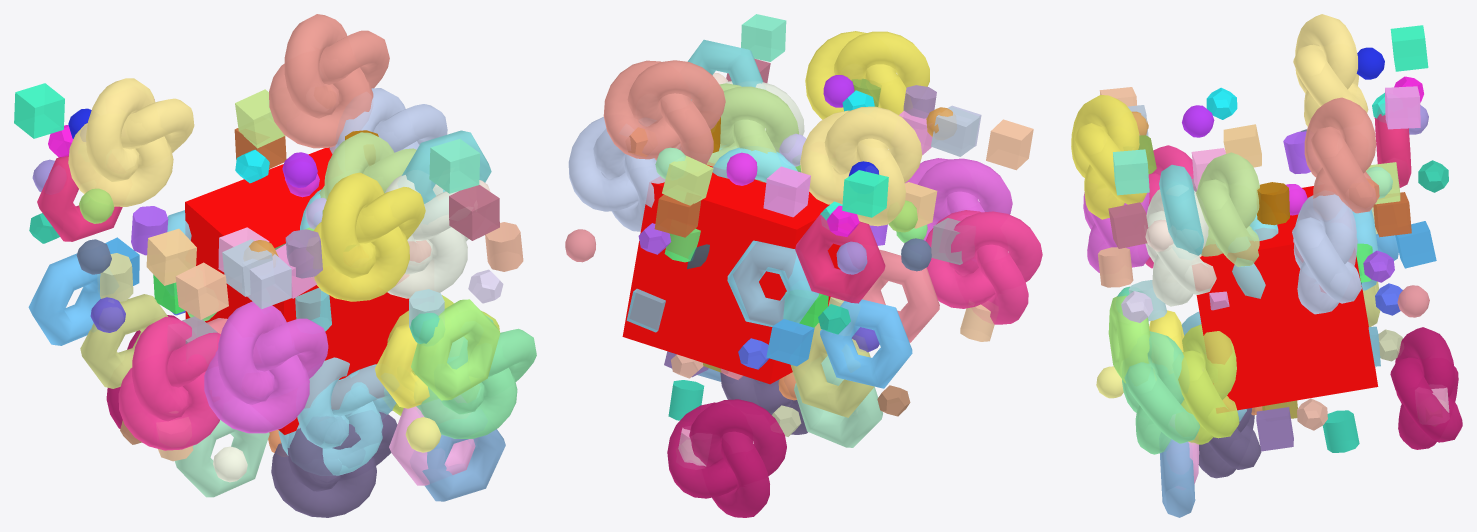
File: hello-world-2020-11-27.gltf
The picture shows the model from 3 angles, left to right: view 1: azimuth 30°, elevation 25°; view 2: azimuth 150°, elevation 25°; view 3: azimuth 270°, elevation 25°; orthographic projection. The views are drawn at different scales.
Parts seen in each view (by area): view 1: mesh 1, mesh 36, mesh 43, mesh 98, mesh 81, mesh 5, mesh 49, mesh 13, mesh 86, mesh 17, mesh 94, mesh 23 (+38 smaller); view 2: mesh 1, mesh 39, mesh 43, mesh 5, mesh 98, mesh 81, mesh 45, mesh 23, mesh 24, mesh 78, mesh 36, mesh 28 (+36 smaller); view 3: mesh 1, mesh 45, mesh 39, mesh 43, mesh 86, mesh 81, mesh 78, mesh 2, mesh 98, mesh 94, mesh 63, mesh 13 (+39 smaller).
Boxes of the visible parts, box(x1,y1,x2,y2) form: mesh 1: box(185, 147, 429, 434); mesh 36: box(204, 301, 328, 433); mesh 43: box(269, 14, 389, 148); mesh 98: box(68, 78, 194, 206); mesh 81: box(313, 172, 425, 301); mesh 5: box(118, 316, 220, 450); mesh 49: box(278, 357, 396, 475); mesh 13: box(271, 411, 397, 517); mesh 86: box(416, 316, 536, 438); mesh 17: box(411, 299, 500, 400); mesh 94: box(385, 174, 468, 298); mesh 23: box(28, 253, 100, 345); mesh 1: box(622, 162, 840, 384); mesh 39: box(667, 399, 786, 517); mesh 43: box(603, 60, 725, 164); mesh 5: box(925, 210, 1042, 324); mesh 98: box(800, 106, 922, 226); mesh 81: box(805, 31, 929, 119); mesh 45: box(568, 117, 665, 231); mesh 23: box(820, 299, 912, 388); mesh 24: box(727, 240, 818, 326); mesh 78: box(706, 83, 798, 182); mesh 36: box(904, 158, 1012, 243); mesh 28: box(795, 212, 885, 303); mesh 1: box(1194, 186, 1378, 412); mesh 45: box(1292, 194, 1361, 314); mesh 39: box(1390, 327, 1462, 449); mesh 43: box(1304, 97, 1376, 213); mesh 86: box(1122, 331, 1199, 454); mesh 81: box(1071, 95, 1146, 219); mesh 78: box(1196, 152, 1259, 266); mesh 2: box(1178, 324, 1239, 444); mesh 98: box(1293, 14, 1368, 126); mesh 94: box(1145, 189, 1216, 306); mesh 63: box(1159, 164, 1203, 255); mesh 13: box(1198, 408, 1261, 478).
Bounding box in the file's own units: 131 × 134 × 119.
